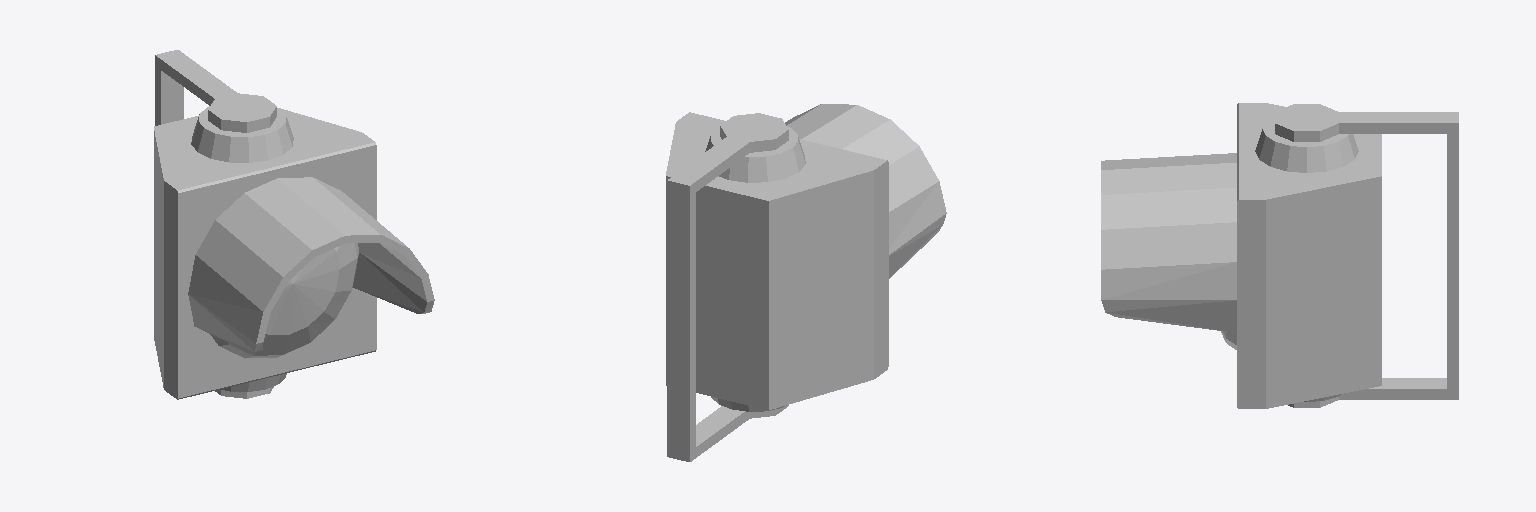
File: ampel 1er.obj
3 views of the same model, side by side, from view 1: azimuth 30°, elevation 25°; view 2: azimuth 150°, elevation 25°; view 3: azimuth 270°, elevation 25° (orthographic).
Bounding box in the file's own units: 0.33 × 0.4403 × 0.5161.